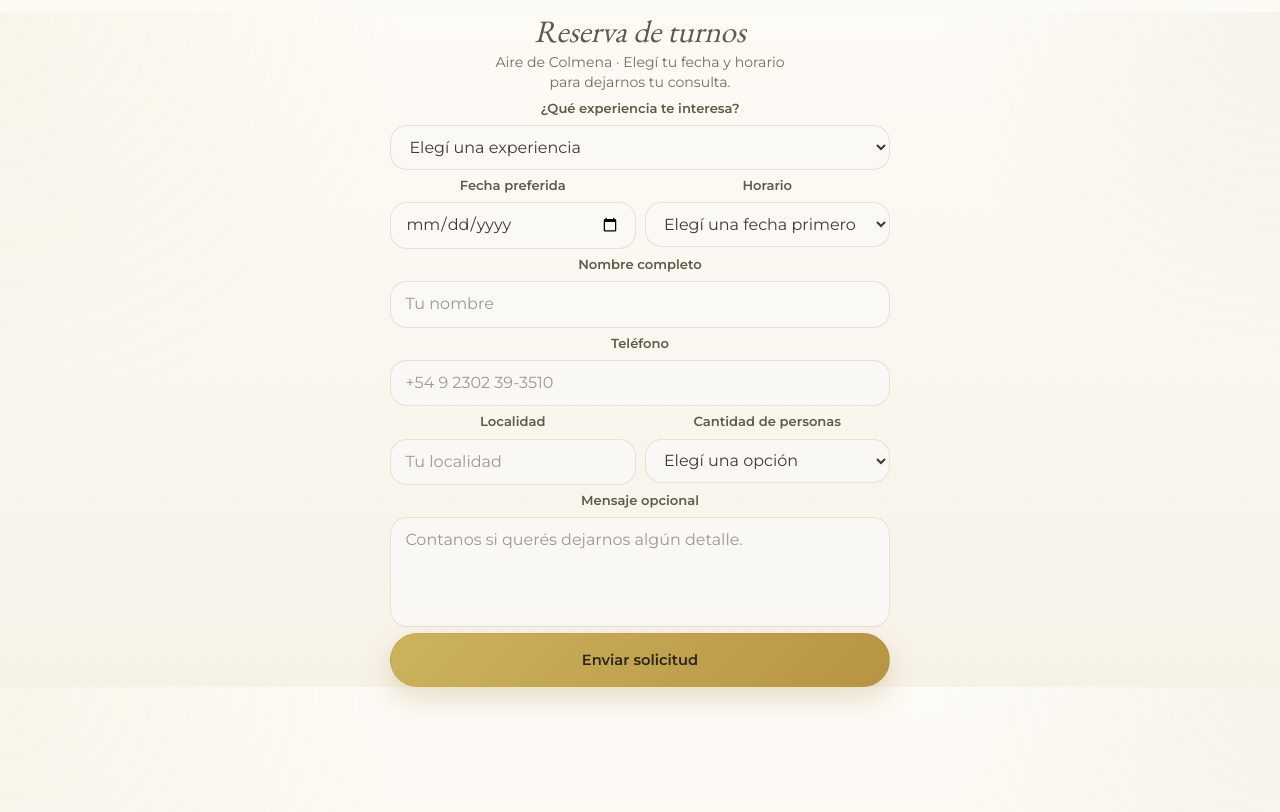
Test: BookingForm › incluye honeypot invisible y muestra RATE_LIMITED sin refrescar disponibilidad
The image size is (1280, 812).
Check: the form named "website" is empty, box [390,12,890,687]
In the date field labelled "Fecha preferida": (513, 225) [390,202,636,249], type "2026-12-15"
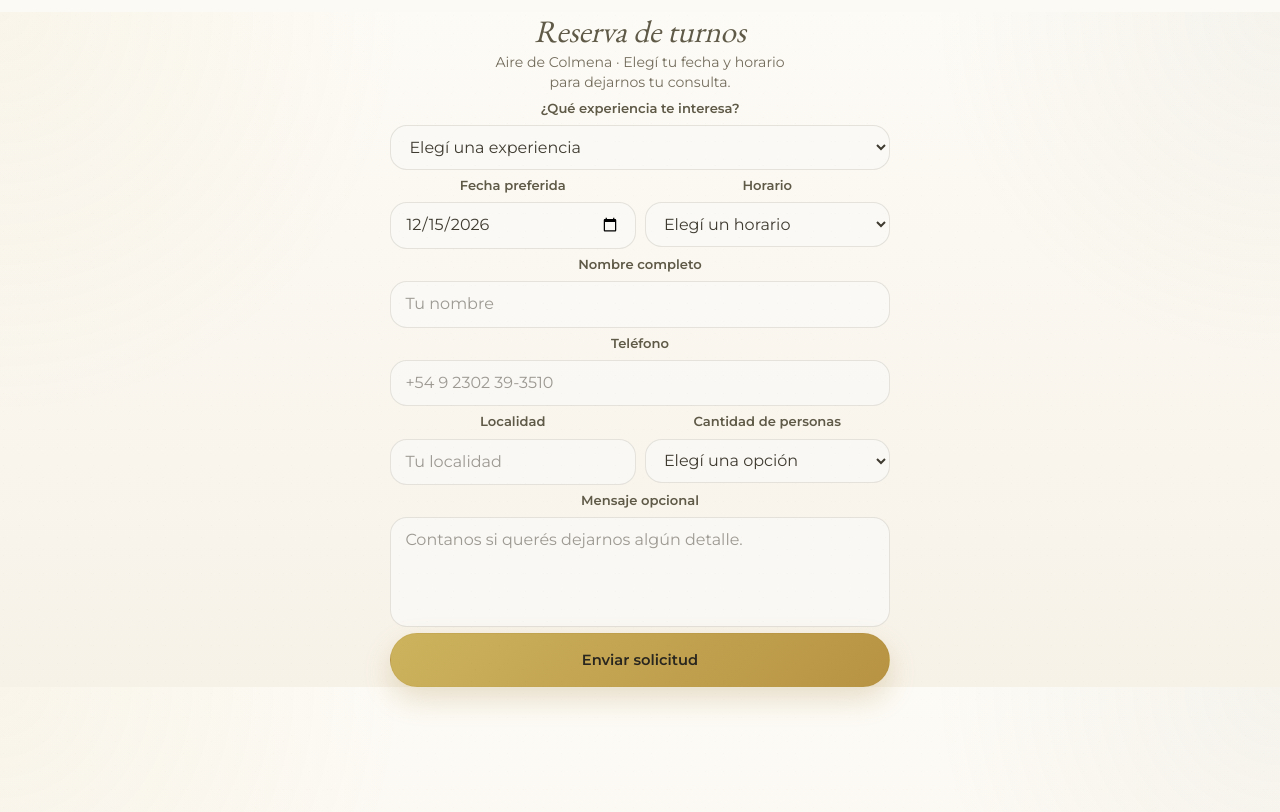
Select "18:00" in the dropdown labelled "Horario": (767, 224) [644,202,890,247]
Select "Aire de Colmena" in the dropdown labelled "¿Qué experiencia te interesa?": (640, 147) [390,125,890,170]
In the field labelled "Nombre completo": (640, 304) [390,281,890,328], type "María Pérez"
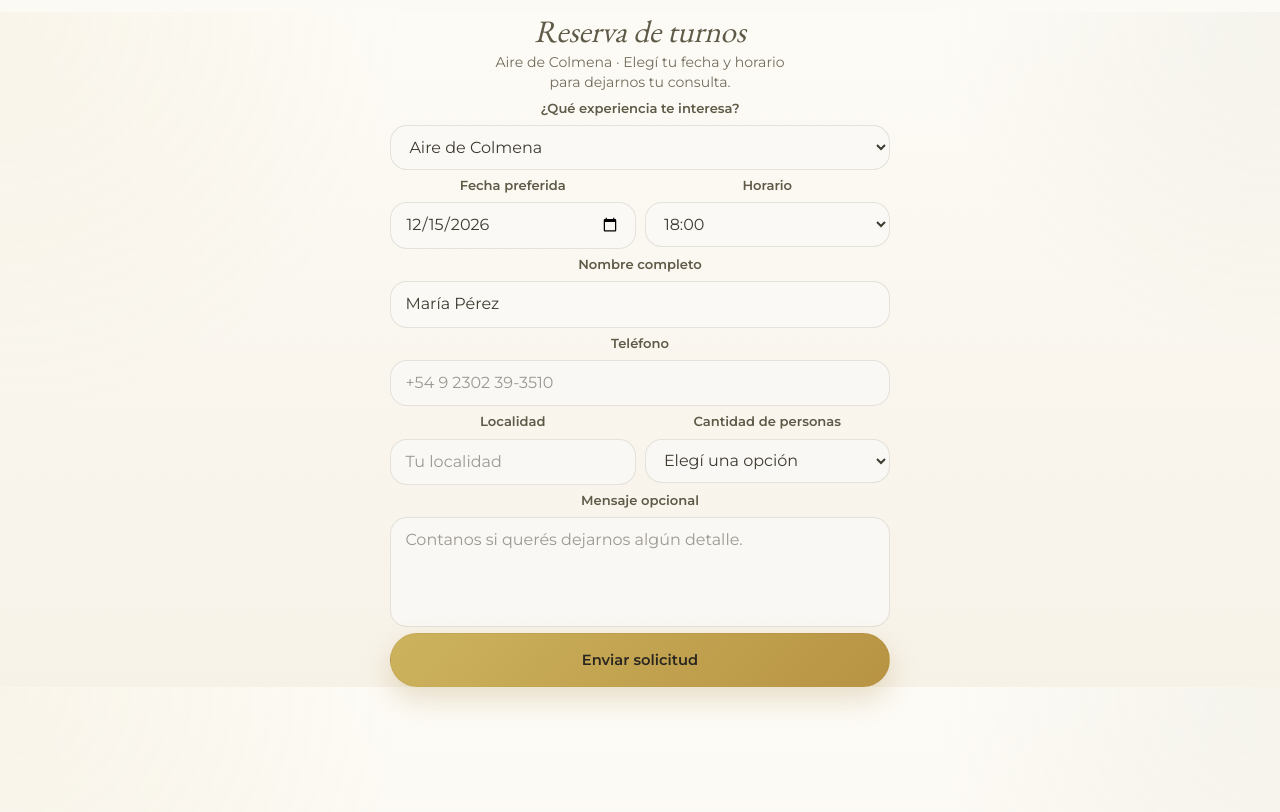
In the field labelled "Teléfono": (640, 383) [390,360,890,406], type "+5492302123456"
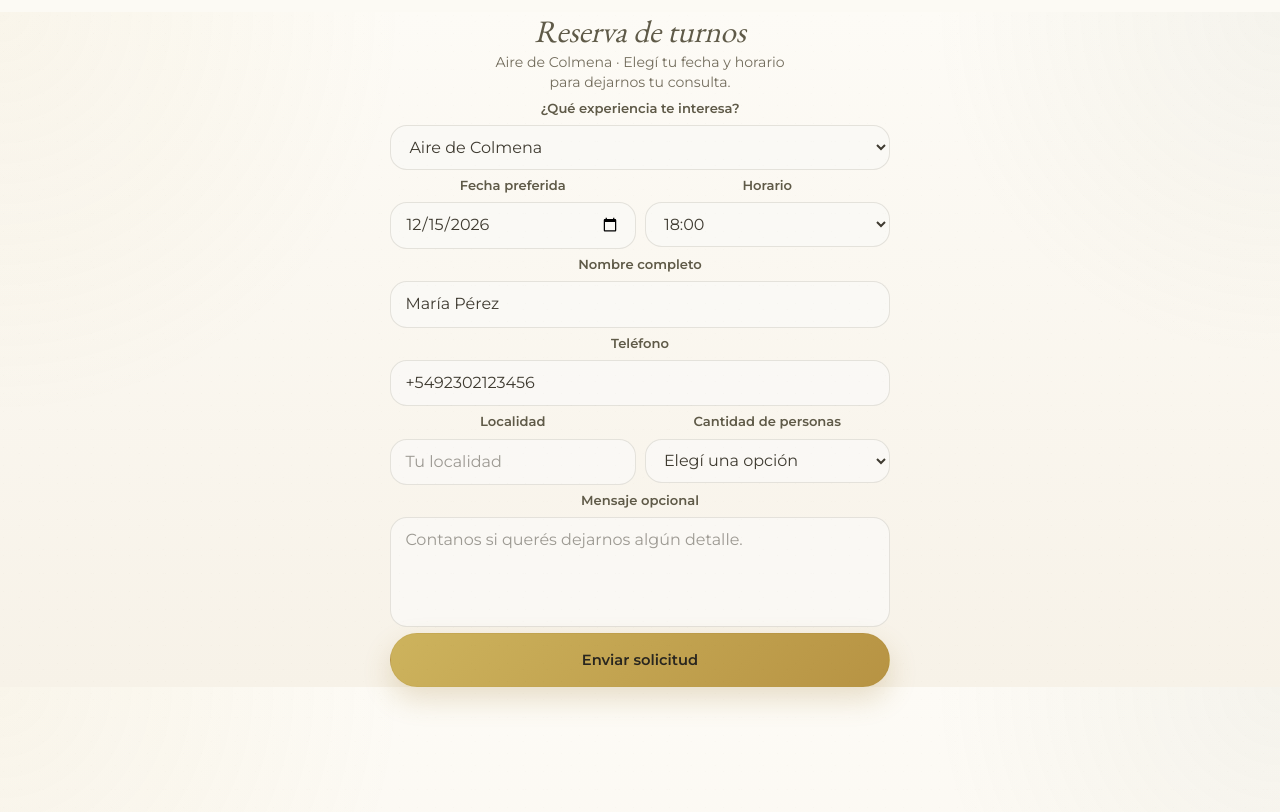
In the field labelled "Localidad": (513, 462) [390,438,636,485], type "General Pico"
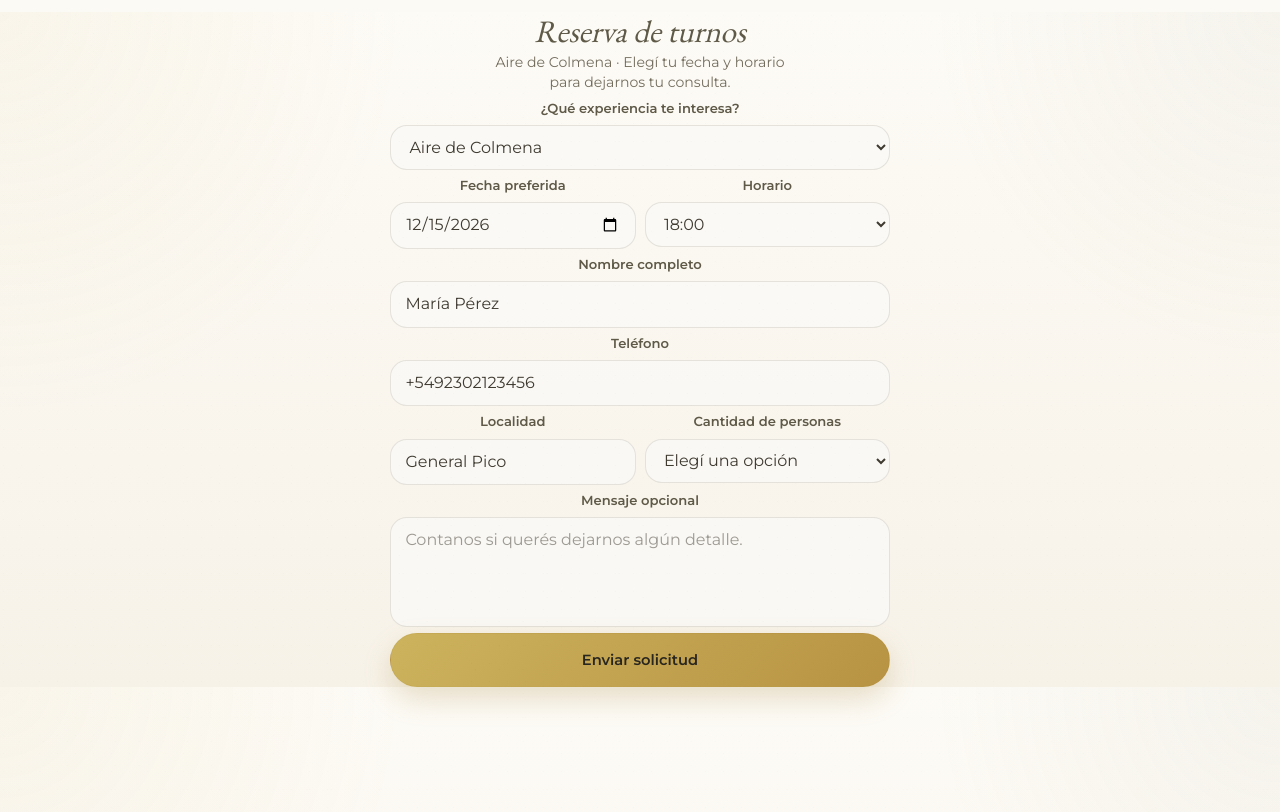
Select "2 personas" in the dropdown labelled "Cantidad de personas": (767, 461) [644,438,890,483]
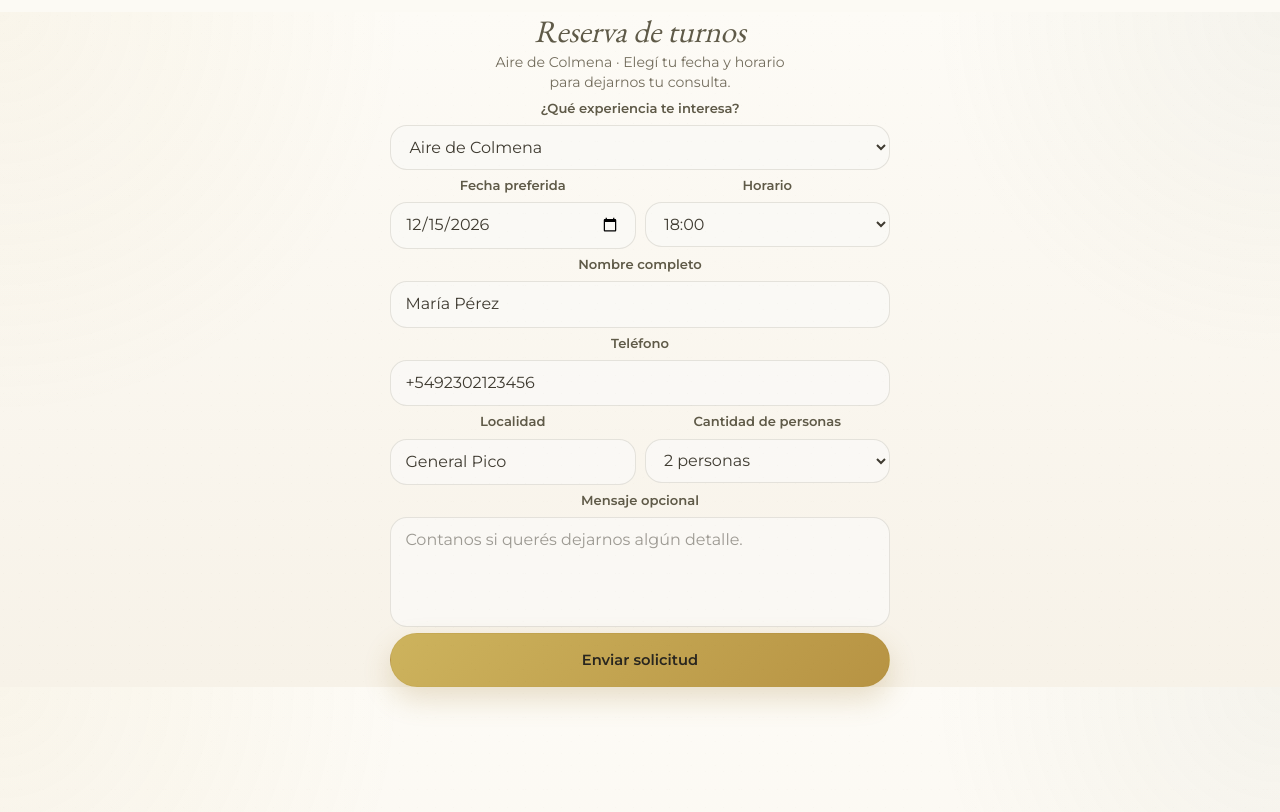
Click the button "Enviar solicitud": (640, 660) [390,632,890,687]
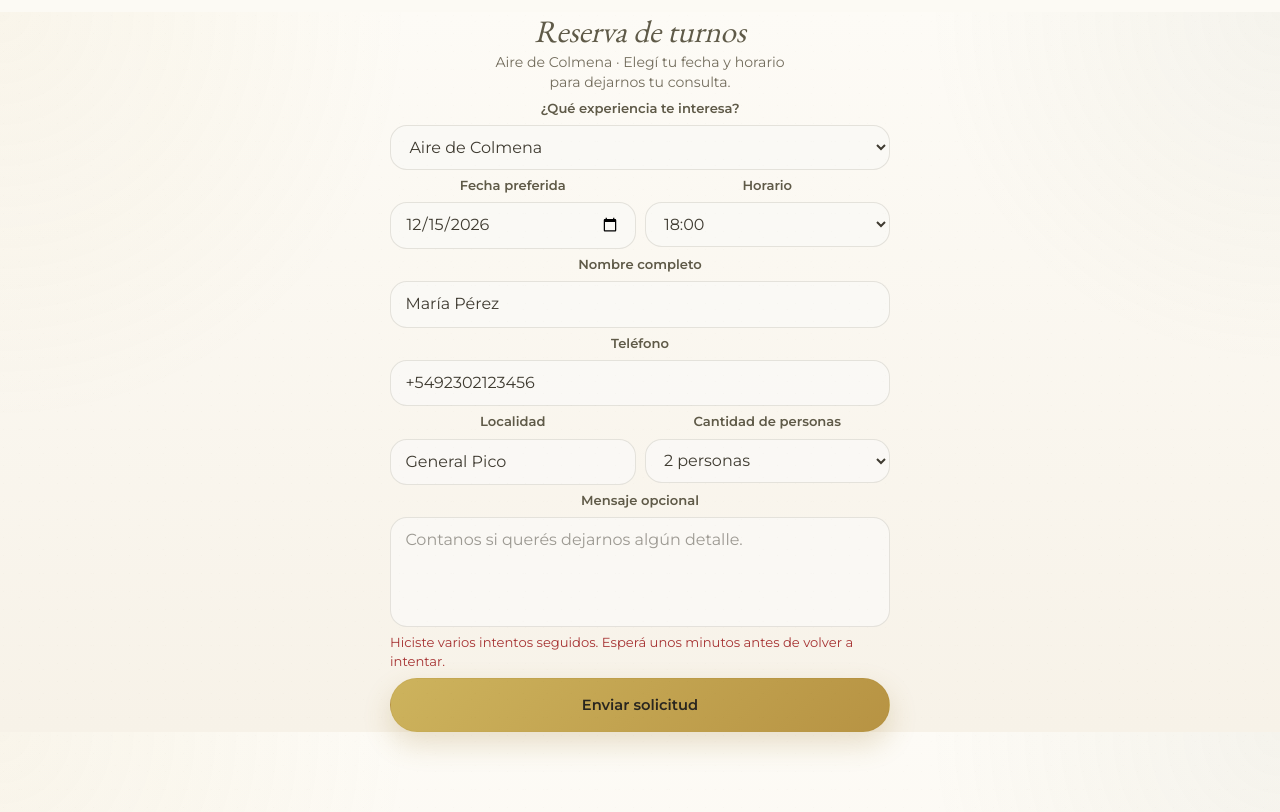
Check: the text "Hiciste varios intentos seguidos. Esperá unos minutos antes de volver a intentar." is shown, box [390,634,853,669]
